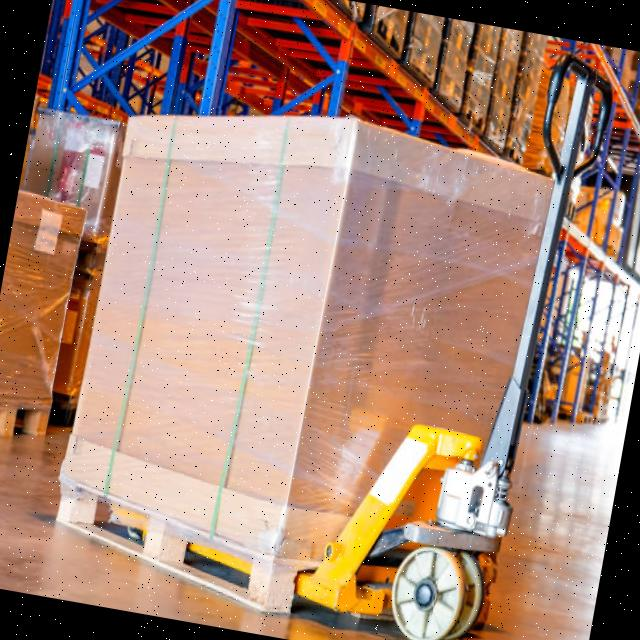Wooden-Pallets: (50, 474, 308, 614)
